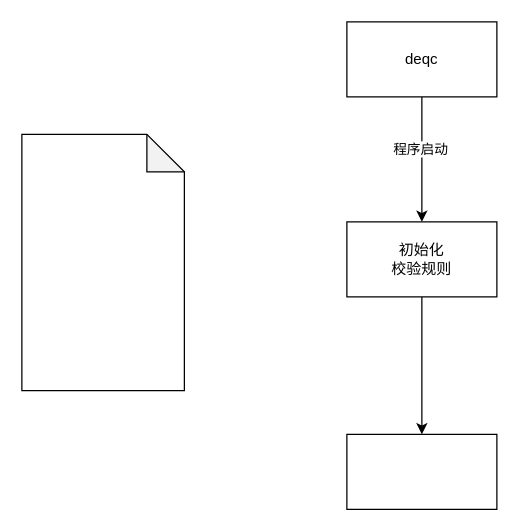
The diagram is 519 pixels wide and 531 high, and some of its shapes have lost their labels. Each missing label, with the box of its shape:
初始化-校验规则： 1、初始化，表结构、数据总量、表关系、指数，相关规则。: (21, 133, 184, 391)
数据校验: (346, 433, 497, 509)
